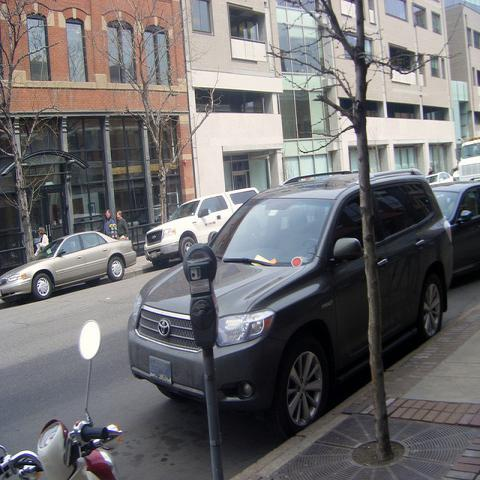car: (126, 170, 455, 445), (0, 229, 136, 301), (144, 186, 259, 267), (430, 177, 480, 279), (426, 170, 453, 188)
motorcycle: (0, 315, 127, 475)
truck: (452, 137, 480, 183)
